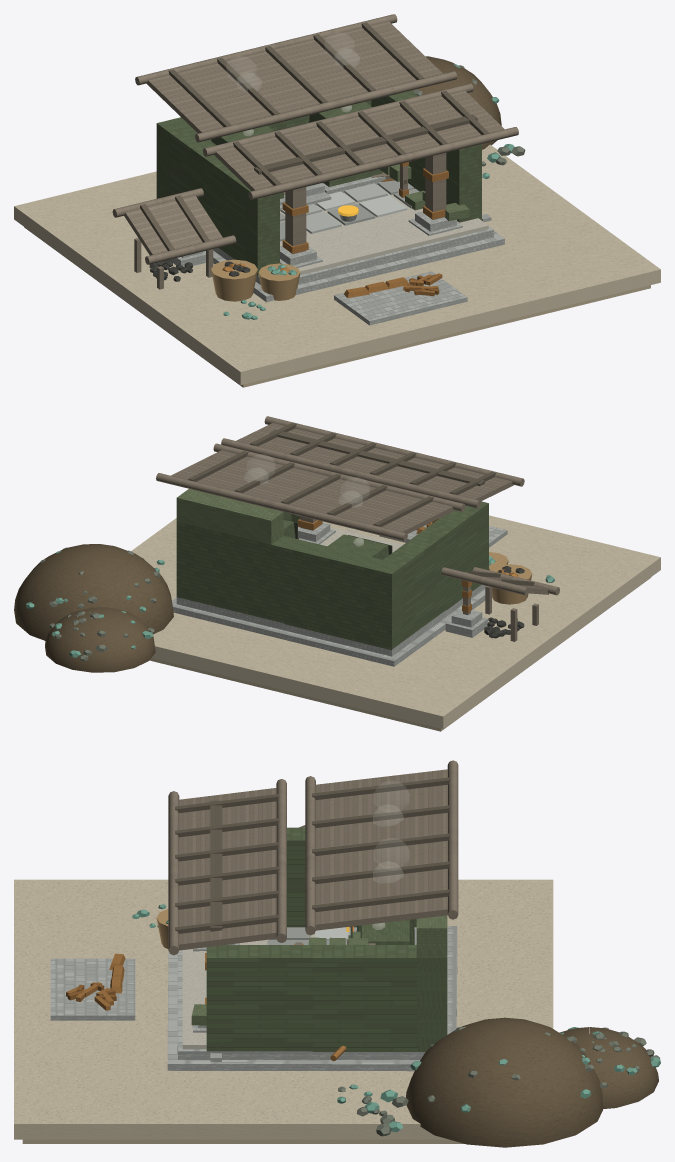
Rendered from lin-3-built.glb.
The picture shows the model from 3 angles, top to bottom: view 1: azimuth 30°, elevation 25°; view 2: azimuth 150°, elevation 25°; view 3: azimuth 270°, elevation 25°; orthographic projection. The views are drawn at different scales.
Size of the model in its own units: 32.6 by 12.23 by 33.6.
Materials: 50 (31 with a texture image).
